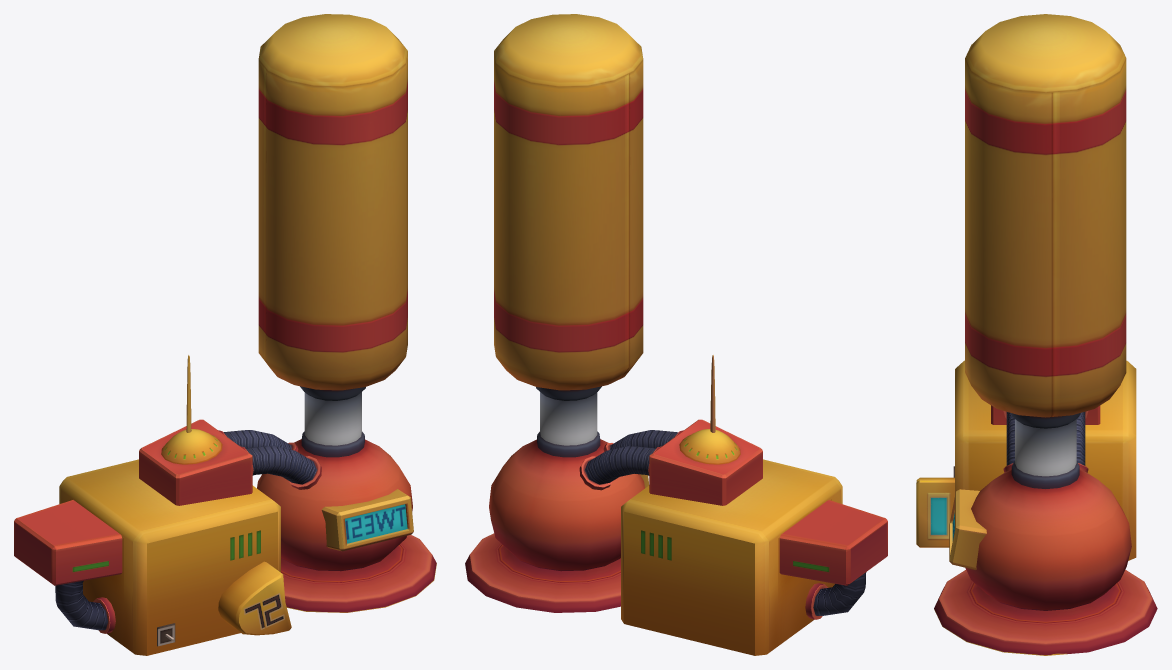
The model's file is zhonglishi_shadai.FBX.
The picture shows the model from 3 angles, left to right: view 1: azimuth 30°, elevation 25°; view 2: azimuth 150°, elevation 25°; view 3: azimuth 270°, elevation 25°; orthographic projection. The views are drawn at different scales.
Visible parts, largest first — view 1: zhonglishi_shadai; view 2: zhonglishi_shadai; view 3: zhonglishi_shadai.
Part boxes in pixels (bbox=[...]): zhonglishi_shadai: bbox=[14, 14, 436, 655]; zhonglishi_shadai: bbox=[465, 14, 887, 655]; zhonglishi_shadai: bbox=[916, 14, 1157, 655].
Bounding box in the file's own units: 153 × 201 × 76.49.
